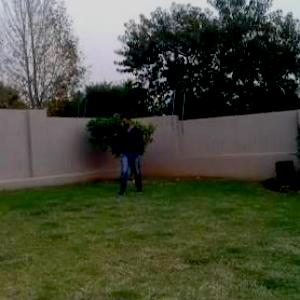follow: (117, 108, 144, 198)
